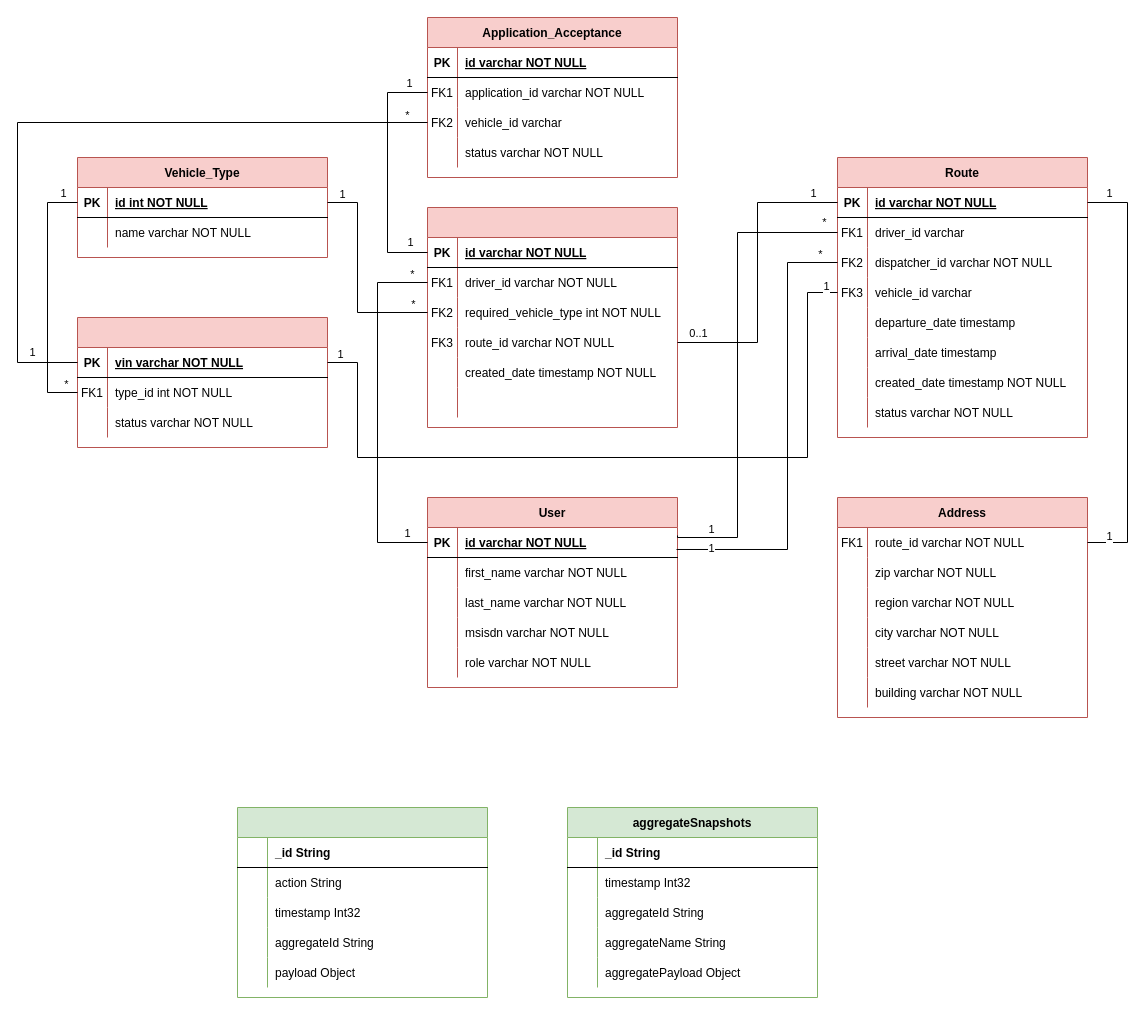
Some shapes in this 1146 by 1015 pixel diagram are drawn without their labels. The shapes that lost their labels are listed below. From the top down, each one's box as (x1, y1, x2, y2) in pixels, then its label:
(426, 206, 678, 428): Application
(76, 316, 328, 448): Vehicle
(236, 806, 488, 998): events
